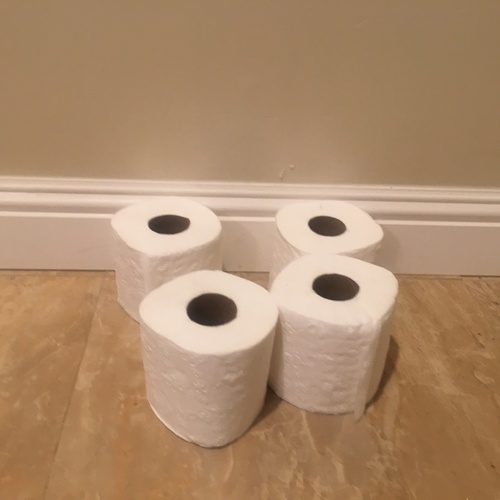roll: (140, 270, 279, 448), (265, 254, 398, 414), (111, 197, 223, 324), (268, 204, 384, 291)
